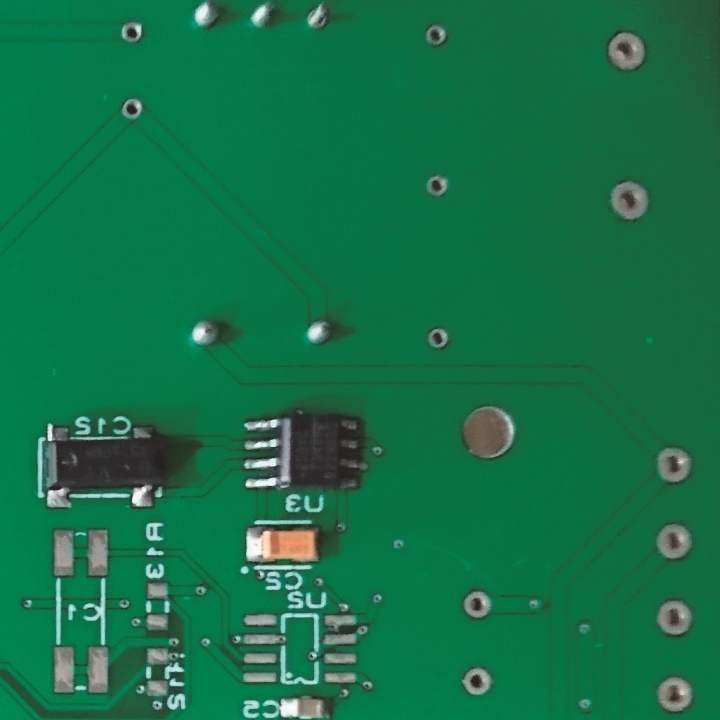F: (607, 175, 650, 223), (606, 29, 647, 75), (651, 520, 694, 561), (653, 445, 693, 486), (654, 598, 693, 638), (654, 675, 693, 713), (459, 663, 493, 699), (461, 587, 493, 623), (303, 2, 333, 32), (117, 20, 147, 47), (424, 170, 450, 201), (422, 23, 450, 50), (119, 95, 144, 125), (427, 322, 451, 353)
